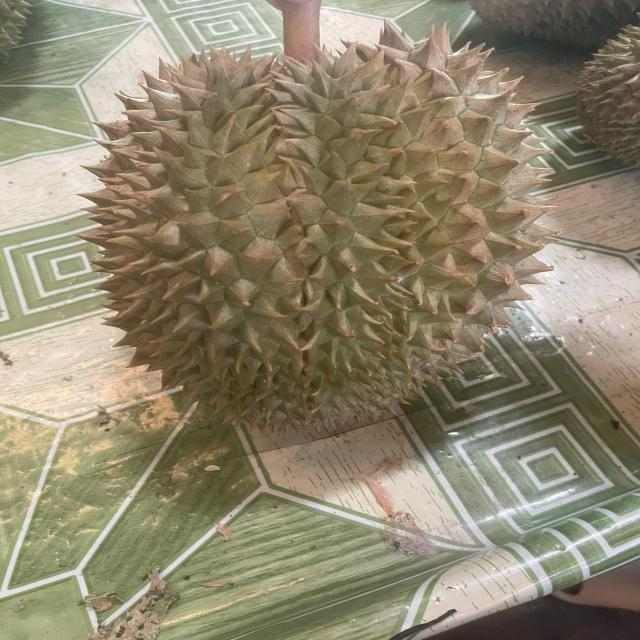mature: (71, 29, 563, 435), (567, 23, 640, 168), (467, 0, 640, 48)
